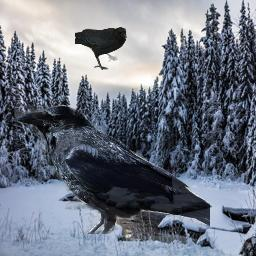Crow: (14, 105, 210, 234), (75, 27, 127, 70)
